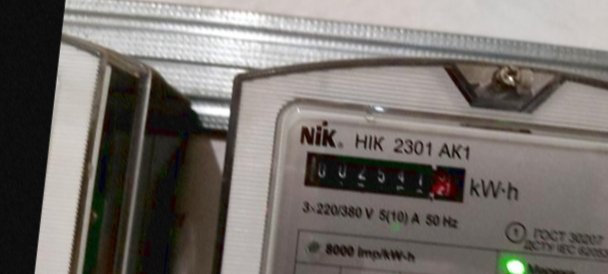0: (312, 155, 327, 177), (333, 155, 347, 177)
1: (412, 165, 425, 186)
2: (353, 158, 367, 180)
4: (393, 162, 407, 184)
5: (372, 160, 386, 183)
6: (433, 179, 445, 196)
screen: (290, 138, 477, 212)
